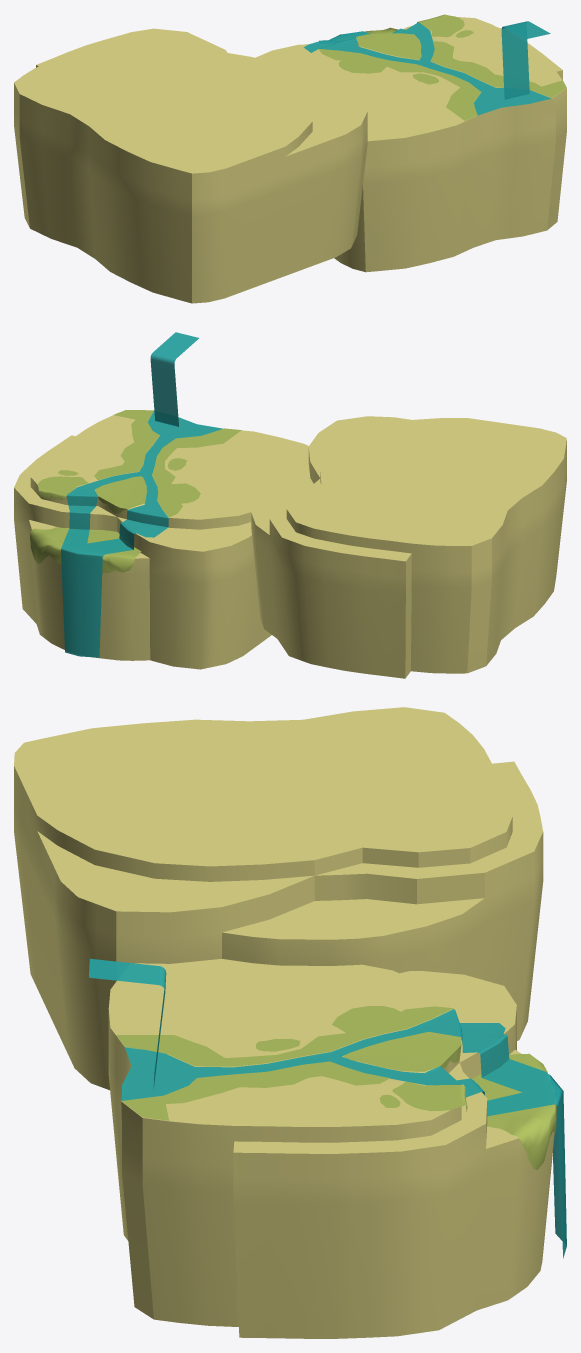
The model's file is floor_new.fbx.
3 views of the same model, one above another, from view 1: azimuth 30°, elevation 25°; view 2: azimuth 150°, elevation 25°; view 3: azimuth 270°, elevation 25° (orthographic). The views are drawn at different scales.
Parts seen in each view (by area): view 1: Base1, ground1, fluss_smoothed, wasserfall, Bodenbelag, bodenbelag_2, bodenbelag6, bodenbelag4, bodenbelag9; view 2: Base1, ground1, fluss_smoothed, wasserfall, bodenbelag_3, bodenbelag_2, Bodenbelag, bodenbelag6, bodenbelag4, bodenbelag9; view 3: Base1, ground1, fluss_smoothed, bodenbelag_2, Bodenbelag, bodenbelag_3, bodenbelag6, wasserfall, bodenbelag4, bodenbelag9.
Boxes of the visible parts, x1=… form: Base1: x1=14, y1=28, x2=367, y2=303; ground1: x1=255, y1=17, x2=566, y2=272; fluss_smoothed: x1=304, y1=22, x2=551, y2=115; wasserfall: x1=501, y1=21, x2=550, y2=99; Bodenbelag: x1=318, y1=49, x2=480, y2=120; bodenbelag_2: x1=430, y1=41, x2=566, y2=97; bodenbelag6: x1=356, y1=33, x2=421, y2=59; bodenbelag4: x1=417, y1=14, x2=464, y2=37; bodenbelag9: x1=338, y1=55, x2=387, y2=73; Base1: x1=251, y1=416, x2=566, y2=678; ground1: x1=14, y1=412, x2=308, y2=669; fluss_smoothed: x1=61, y1=411, x2=222, y2=657; wasserfall: x1=150, y1=332, x2=199, y2=426; bodenbelag_3: x1=30, y1=527, x2=141, y2=573; bodenbelag_2: x1=94, y1=410, x2=159, y2=480; Bodenbelag: x1=152, y1=428, x2=241, y2=517; bodenbelag6: x1=94, y1=476, x2=146, y2=513; bodenbelag4: x1=37, y1=476, x2=88, y2=499; bodenbelag9: x1=161, y1=483, x2=200, y2=503; Base1: x1=14, y1=707, x2=543, y2=1090; ground1: x1=108, y1=959, x2=554, y2=1338; fluss_smoothed: x1=121, y1=1009, x2=566, y2=1258; bodenbelag_2: x1=122, y1=1061, x2=389, y2=1120; Bodenbelag: x1=116, y1=1006, x2=453, y2=1066; bodenbelag_3: x1=472, y1=1053, x2=556, y2=1169; bodenbelag6: x1=342, y1=1031, x2=461, y2=1071; wasserfall: x1=89, y1=958, x2=166, y2=1088; bodenbelag4: x1=392, y1=1081, x2=467, y2=1111; bodenbelag9: x1=332, y1=1006, x2=410, y2=1033.
Bounding box in the file's own units: 407 × 167 × 261.
